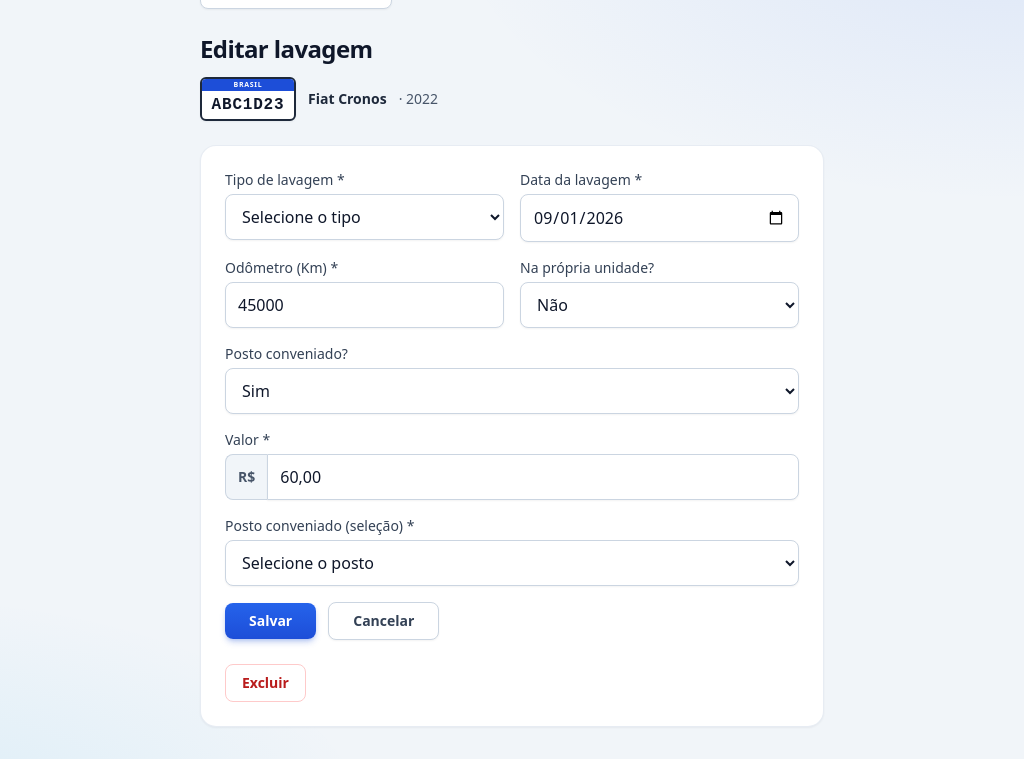
Test: LavagemFormPage — exclusão (Req. 9.1–9.5 / R17/R18) › Req. 9.1/9.2: na edição, "Excluir" aparece e abre o diálogo de confirmação
This screenshot has width=1024, height=759.
(page scrolled)
Expected: the date field labelled "Data da lavagem *" holds "2026-09-01", [520, 194, 799, 242]
Click the button "Excluir" at x=266, y=683, box [225, 664, 306, 702]
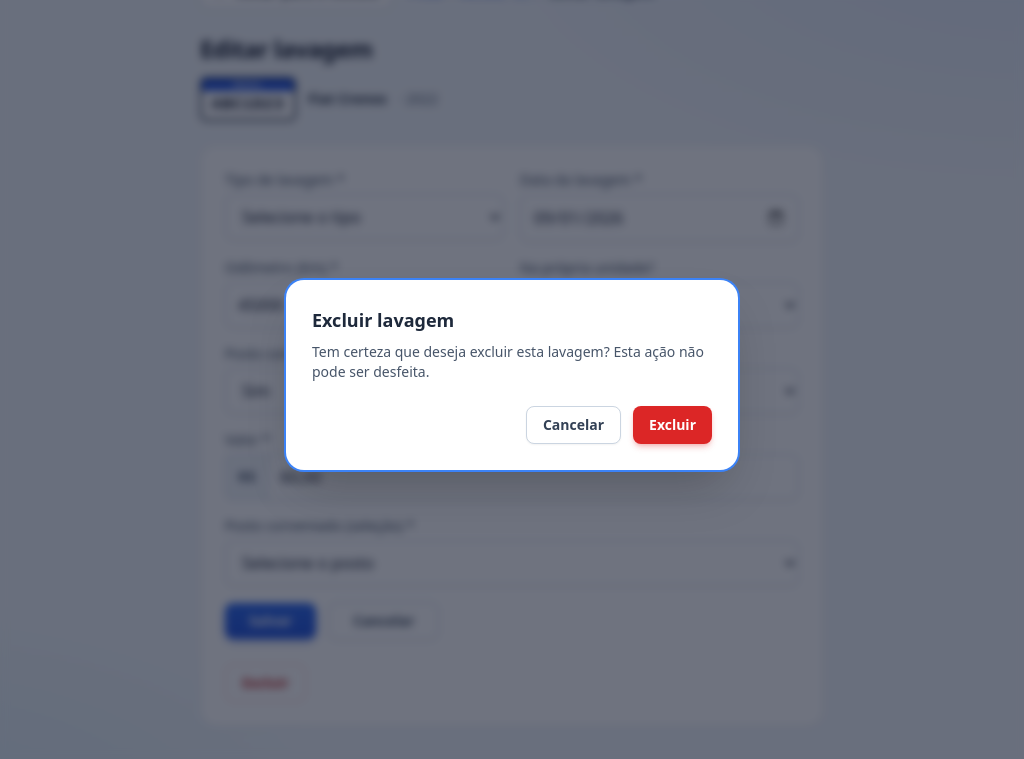
Expected: the dialog is shown, [288, 282, 736, 468]
